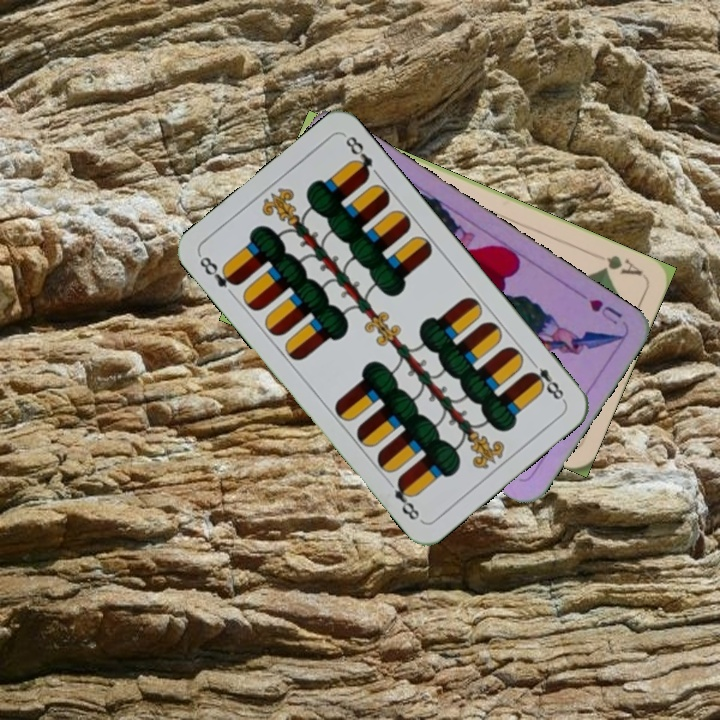E8: (524, 354, 568, 404), (194, 252, 242, 291)
GA: (596, 251, 645, 278)
HU: (585, 295, 625, 328)
